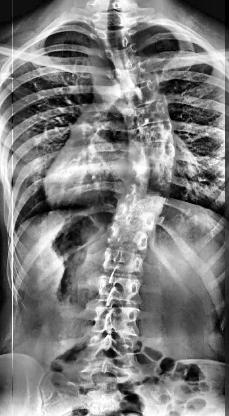Vertebrae: (76, 357, 138, 393), (89, 302, 144, 338), (94, 272, 148, 306), (98, 246, 150, 278), (84, 334, 140, 362), (124, 159, 172, 191), (102, 223, 152, 253), (120, 182, 166, 212), (122, 142, 178, 166), (112, 202, 160, 230), (124, 102, 174, 127), (120, 85, 166, 109), (126, 121, 174, 144), (113, 66, 160, 89), (100, 44, 148, 66), (92, 28, 138, 48), (90, 11, 138, 29)
